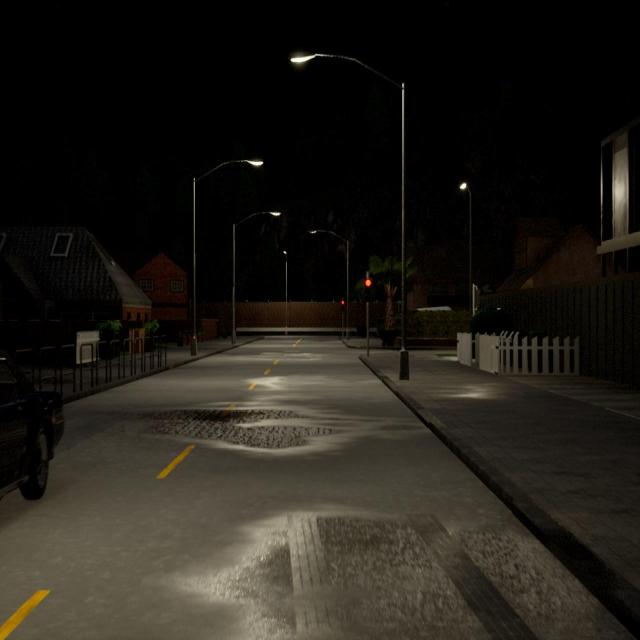Vehicle: (0, 351, 64, 499)
traffic_light: (364, 278, 371, 303), (474, 288, 481, 310), (341, 299, 346, 313)
